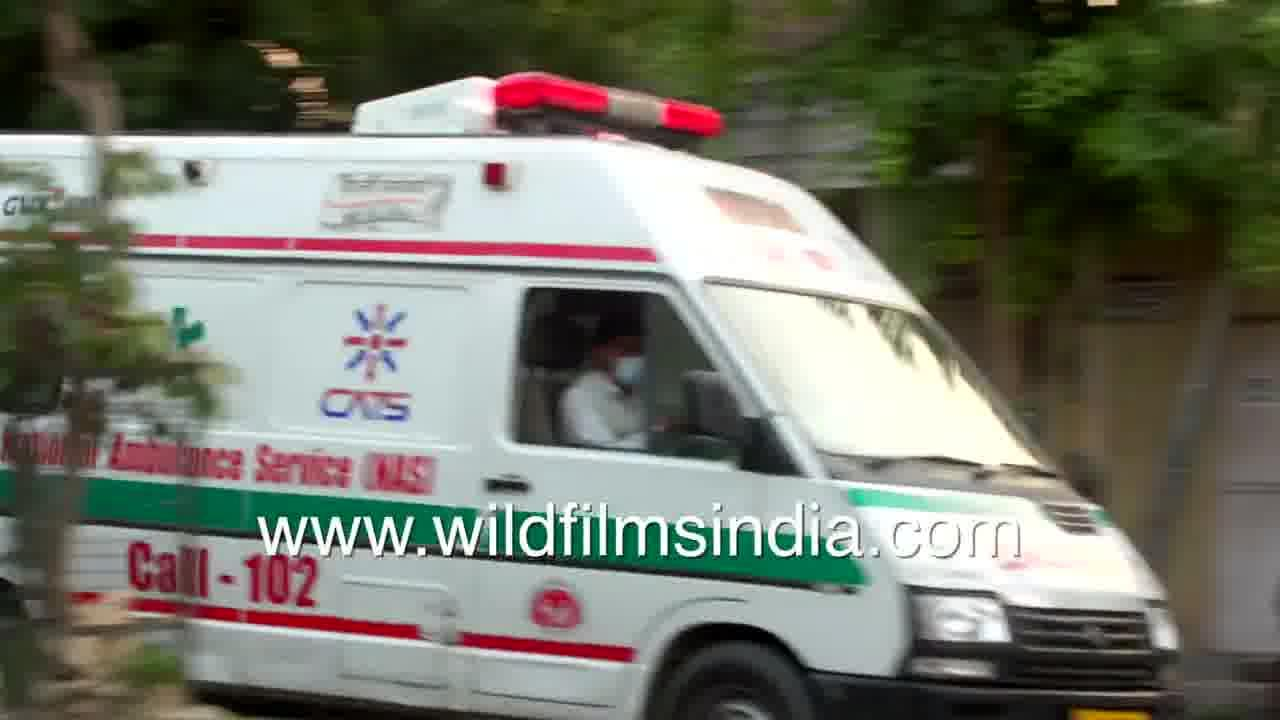AMBULANCE: (0, 59, 1135, 472), (9, 572, 1208, 719)
